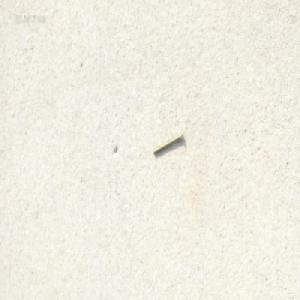Bolt: (152, 129, 183, 155)
